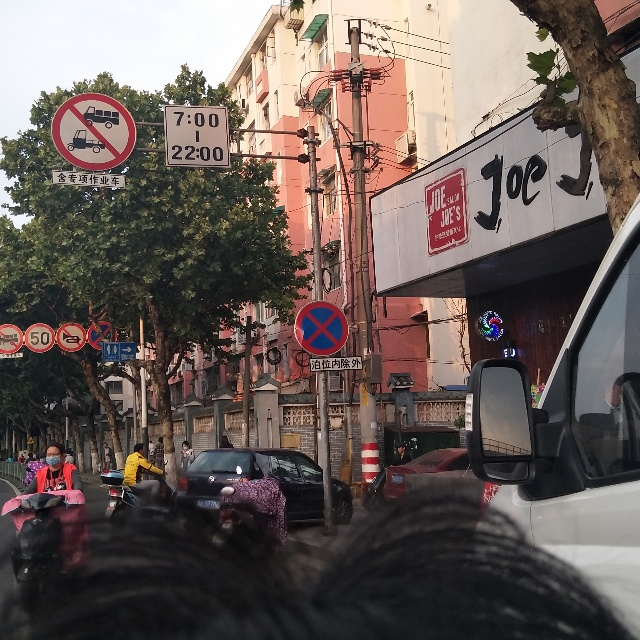nohonk: (58, 328, 85, 348)
stop: (301, 307, 343, 352)
